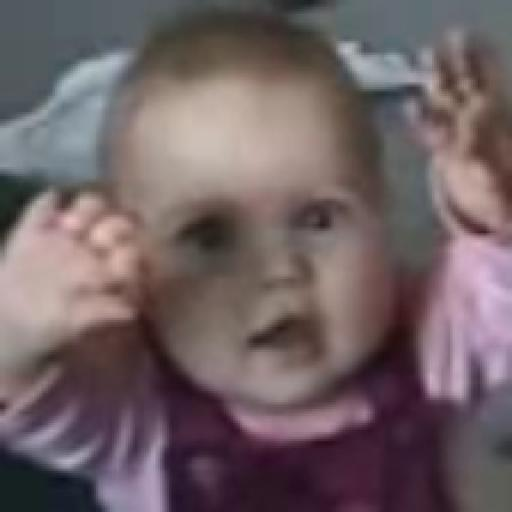Autism: (96, 51, 370, 378)
